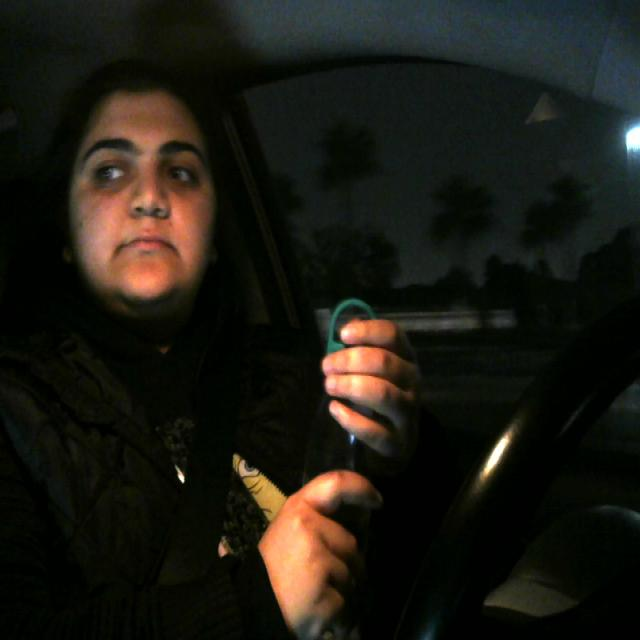drinking: (288, 278, 408, 640)
